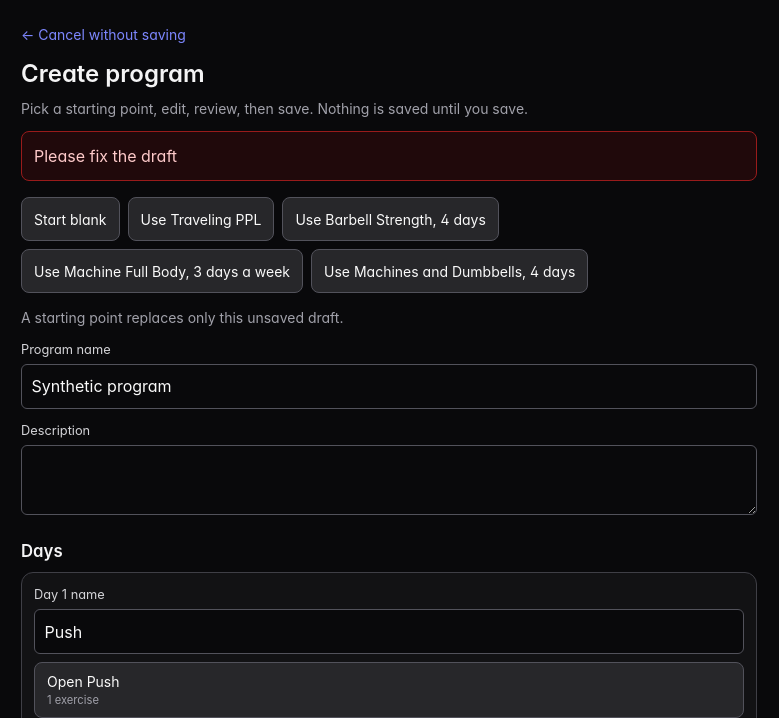
recovers malformed quick-add invalid quick-add from a failed POST without crashing
Check: the message reads "Please fix the draft", box top-left (34, 146), bottom-right (182, 166)
Replace the text in the field labelled "Program name" with "Recovered program" at (389, 386), box top-left (21, 364), bottom-right (757, 409)
(page scrolled)
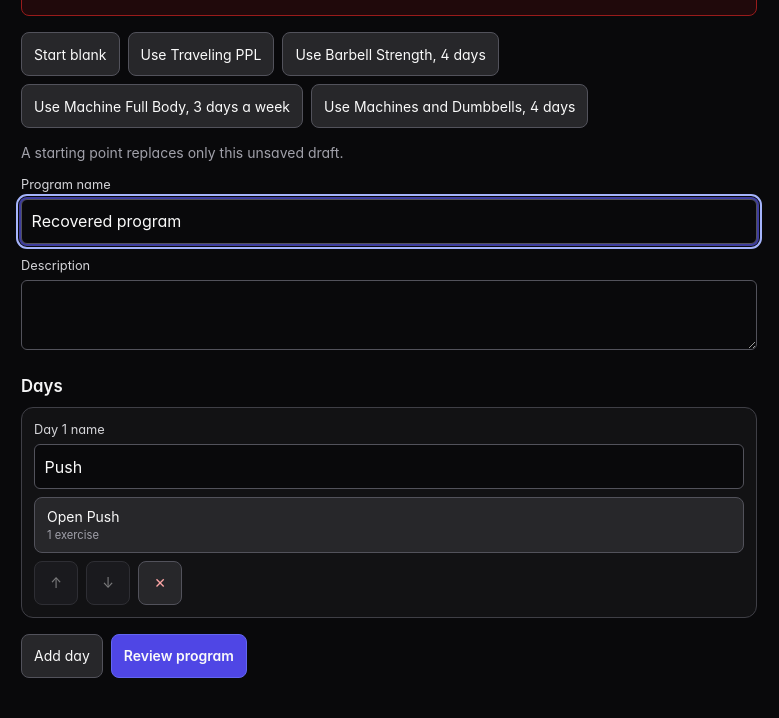
Click the button "Review program" at (179, 656), box top-left (111, 634), bottom-right (247, 678)
(page scrolled)
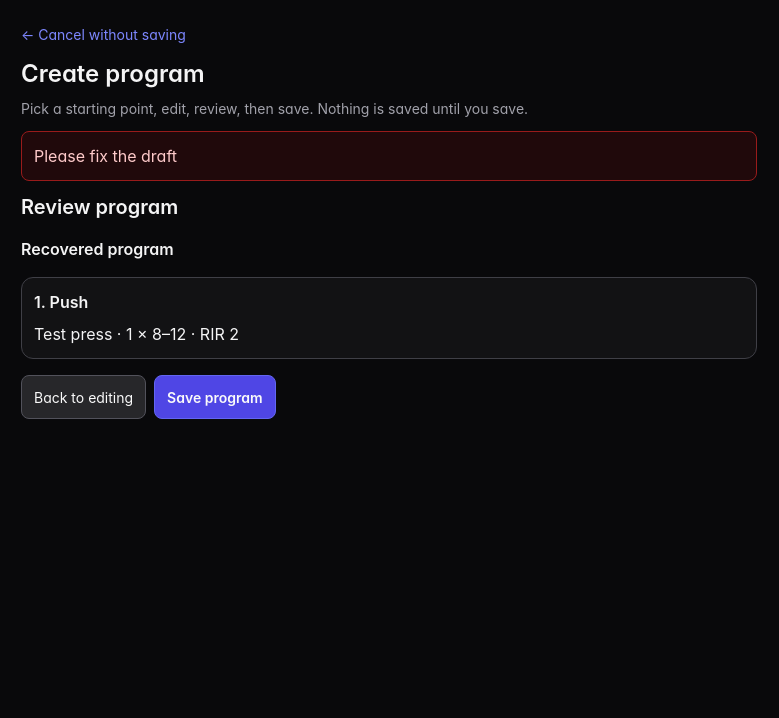
Check: the heading "Review program" is shown, box top-left (21, 195), bottom-right (178, 219)
Check: the heading "Recovered program" is shown, box top-left (21, 239), bottom-right (174, 259)
